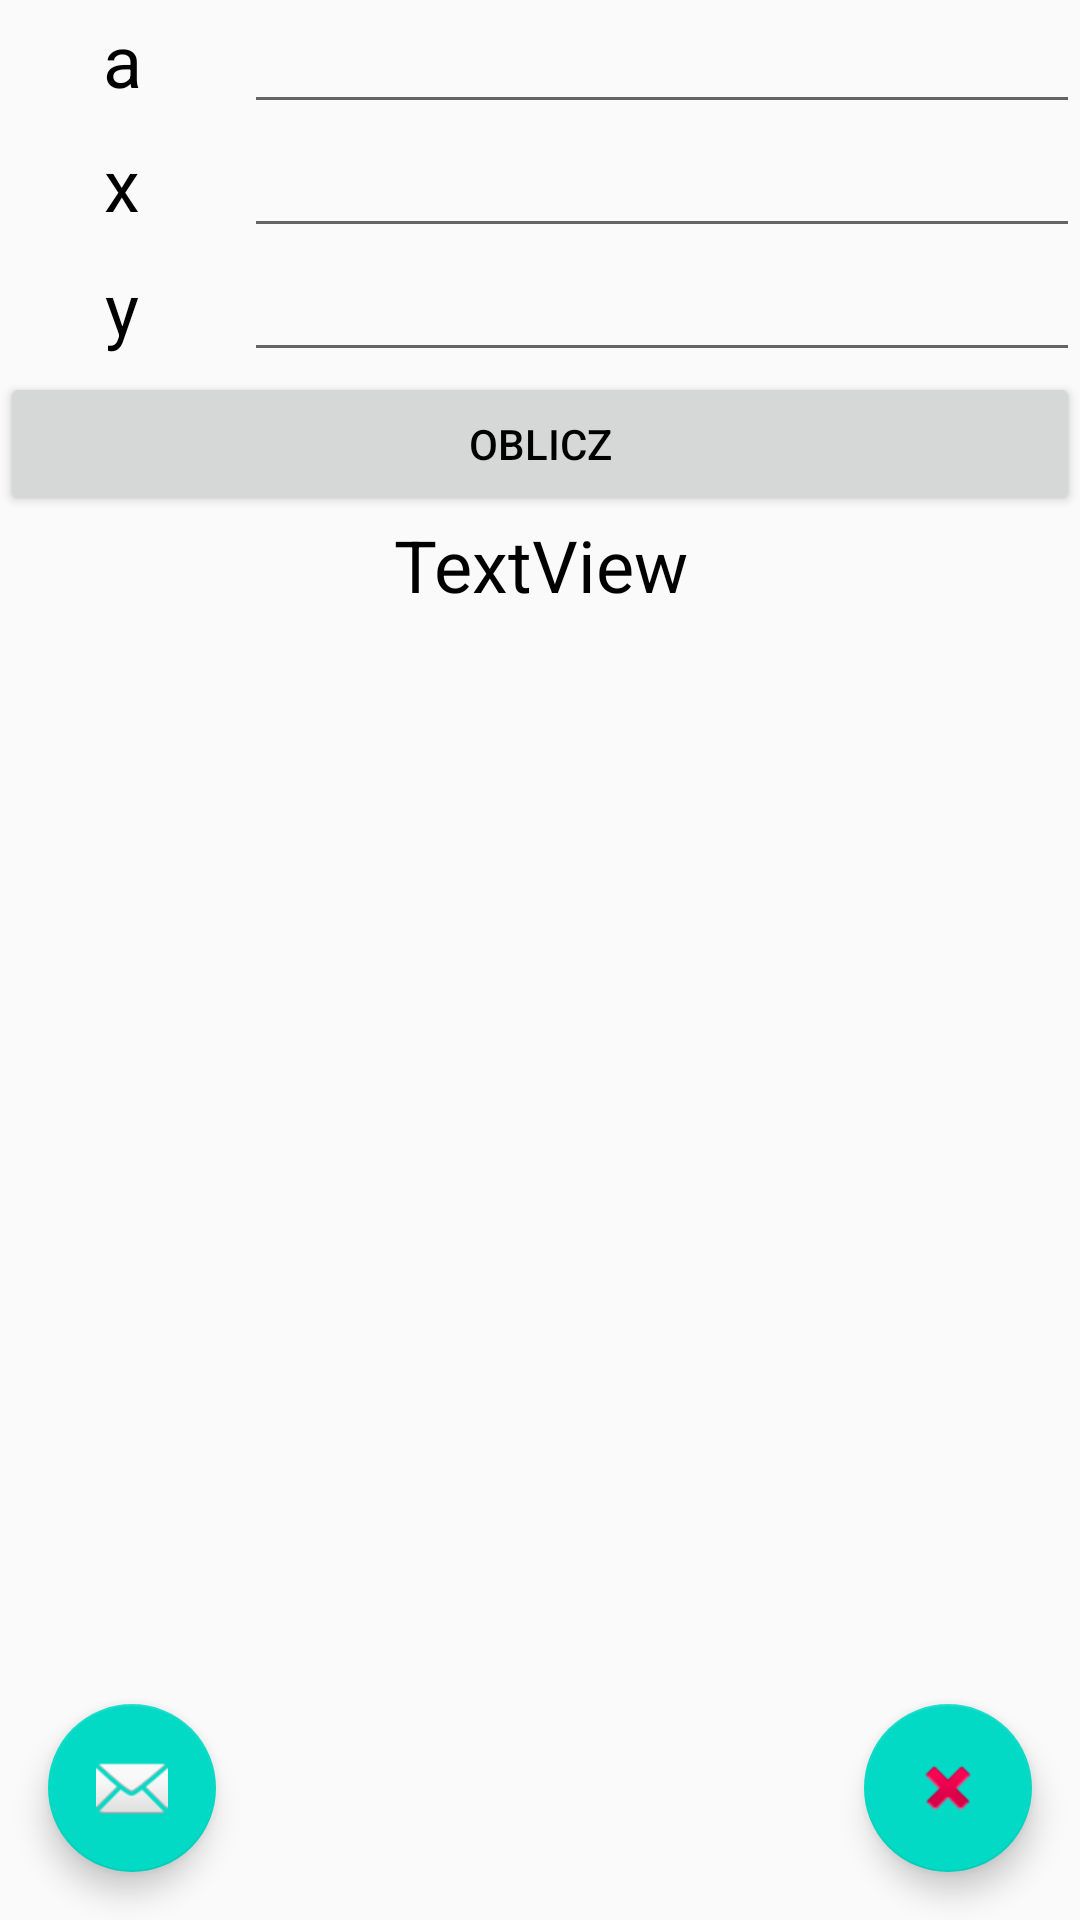

Where to tap for icons on this 1080×1920 app screen, as point (x, y):
delete: point (948, 1788)
email: point (132, 1788)
